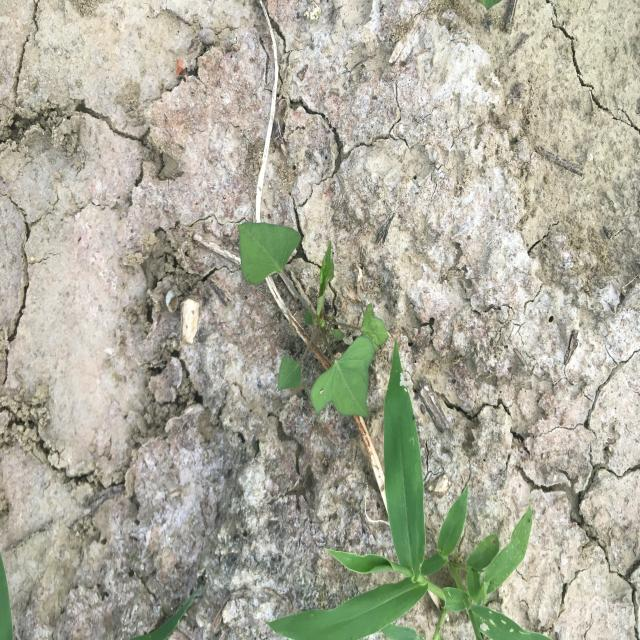MorningGlory: (237, 219, 391, 421)
